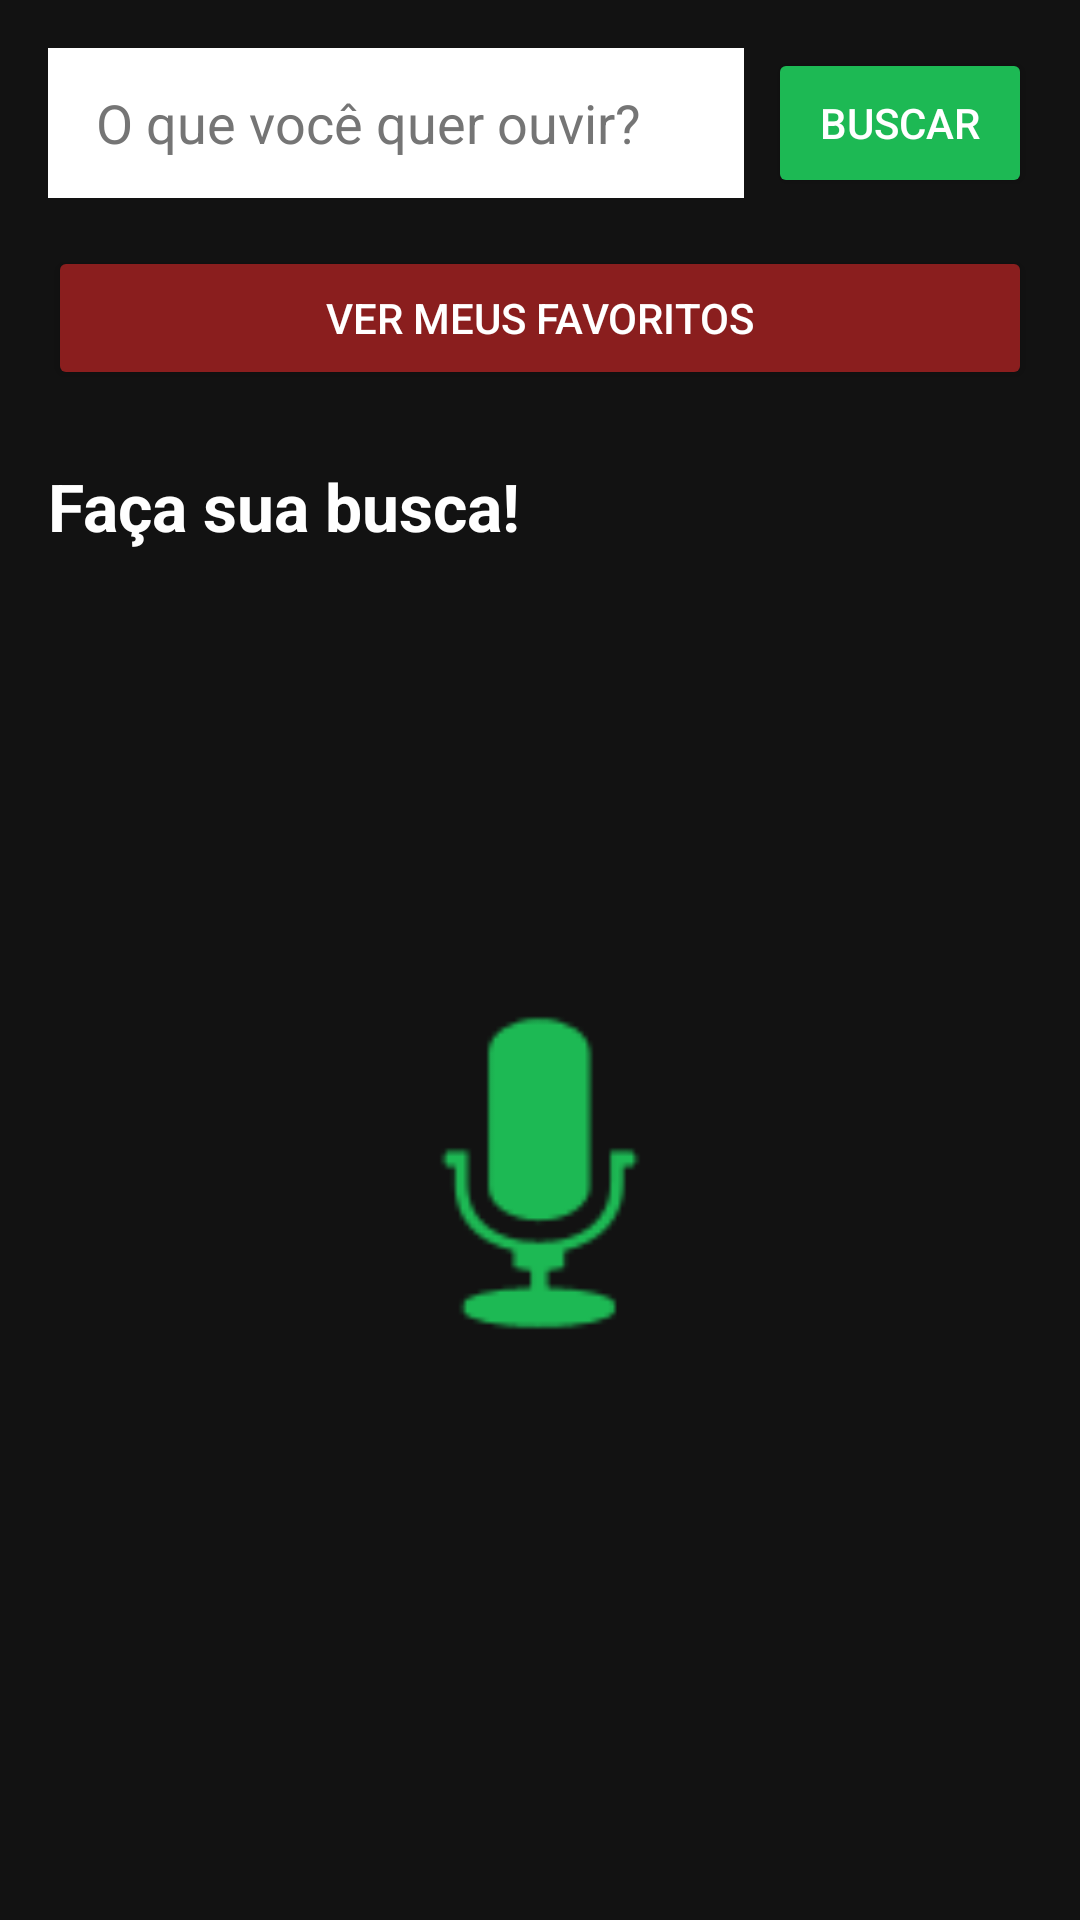

Where to tap for icons on this 1080px×1920px app screen, as (x=x, y=y):
speak now: (x=540, y=1173)
